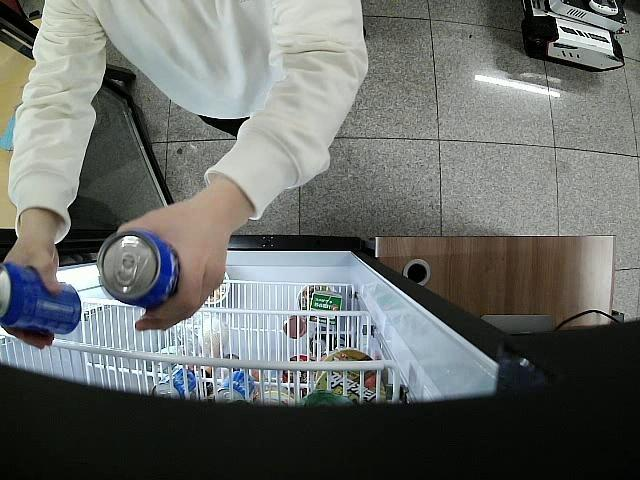13_pocariSweat: (96, 228, 182, 308), (0, 263, 81, 336)
